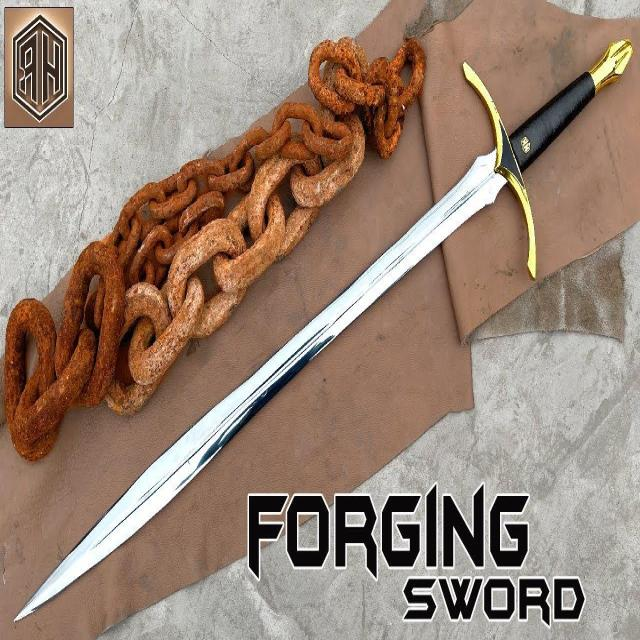weapon: (10, 40, 636, 630)
